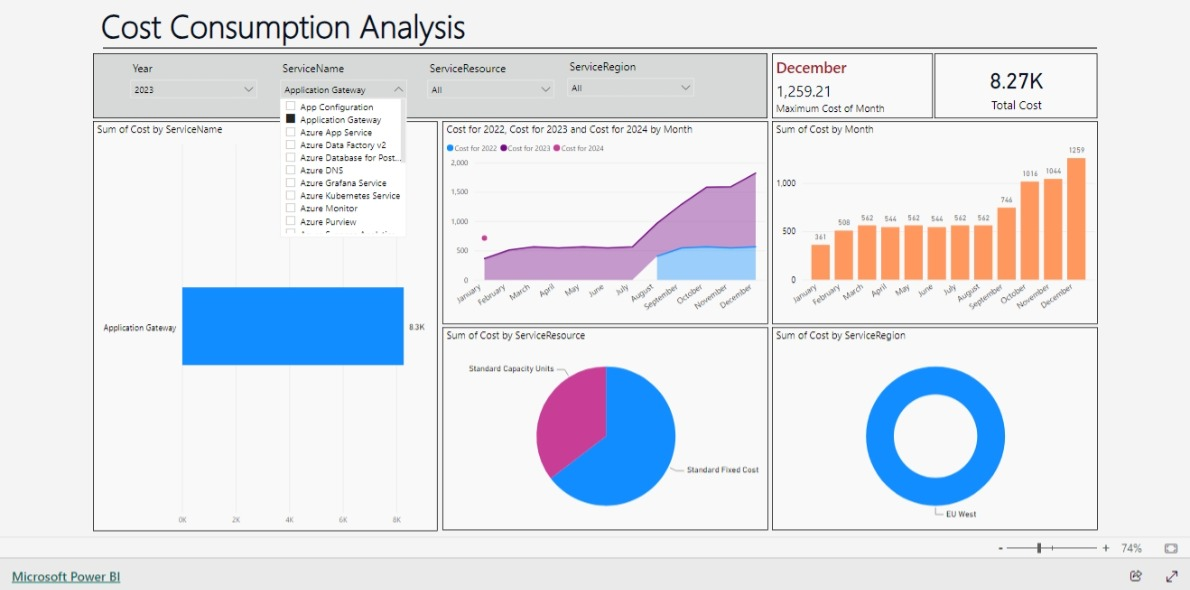

This screenshot's page, from the dashboard's own definition file:
{"tool":"powerbi","page":{"name":"Page 1","canvas":[1503,800],"ordinal":0},"visuals":[{"type":"shape","box":[3.2,79,1006,97],"z":0},{"type":"columnChart","title":"Total Cost by Month","fields":{"Category":["AzureUsage_Workxflow_10-01-2024.Date.Variation.Date Hierarchy.Month"],"Y":["Sum(AzureUsage_Workxflow_10-01-2024.Cost)"]},"box":[1015,180,486,303.4],"z":1000},{"type":"donutChart","title":"Total Cost by ServiceRegion","fields":{"Category":["AzureUsage_Workxflow_10-01-2024.ServiceRegion"],"Y":["Sum(AzureUsage_Workxflow_10-01-2024.Cost)"]},"box":[1015,488,486,303],"z":2000},{"type":"pieChart","title":"Total Cost by ServiceResource","fields":{"Category":["AzureUsage_Workxflow_10-01-2024.ServiceResource"],"Y":["Sum(AzureUsage_Workxflow_10-01-2024.Cost)"]},"box":[523.3,488,486,303],"z":3000},{"type":"clusteredBarChart","title":"total cost by ServiceName","fields":{"Category":["AzureUsage_Workxflow_10-01-2024.ServiceName"],"Y":["Sum(AzureUsage_Workxflow_10-01-2024.Cost)"]},"box":[3,180,514,611],"z":4000},{"type":"card","fields":{"Values":["Sum(AzureUsage_Workxflow_10-01-2024.Cost)"]},"box":[1258.3,79,242.7,97],"z":5000},{"type":"slicer","fields":{"Values":["AzureUsage_Workxflow_10-01-2024.ServiceName"]},"box":[417,85.7,193.9,87.3],"z":6000},{"type":"slicer","fields":{"Values":["AzureUsage_Workxflow_10-01-2024.ServiceResource"]},"box":[610.9,85.7,192.3,87.3],"z":7000},{"type":"slicer","fields":{"Values":["AzureUsage_Workxflow_10-01-2024.ServiceRegion"]},"box":[803.2,85.7,193.9,87.3],"z":8000},{"type":"slicer","fields":{"Values":["AzureUsage_Workxflow_10-01-2024.Date.Variation.Date Hierarchy.Year"]},"box":[17.6,86.2,193,86.2],"z":9000},{"type":"multiRowCard","fields":{"Values":["AzureUsage_Workxflow_10-01-2024.Date.Variation.Date Hierarchy.Month","Sum(AzureUsage_Workxflow_10-01-2024.Cost)"]},"box":[1015.6,79.8,239.5,97.4],"z":10000},{"type":"stackedAreaChart","title":"Cost Comparison by Year","fields":{"Category":["AzureUsage_Workxflow_10-01-2024.Date.Variation.Date Hierarchy.Month"],"Y":["AzureUsage_Workxflow_10-01-2024.Cost for 2022","AzureUsage_Workxflow_10-01-2024.Cost for 2023","AzureUsage_Workxflow_10-01-2024.Cost for 2024"]},"box":[523.3,180,486,303.3],"z":11000},{"type":"shape","box":[17.6,19,1483.4,105.4],"z":12000},{"type":"textbox","box":[9.6,0,811.2,83],"z":13000},{"type":"slicer","fields":{"Values":["AzureUsage_Workxflow_10-01-2024.Date.Variation.Date Hierarchy.Month"]},"box":[221.4,85.7,193.9,87.3],"z":13001}]}

Visuals, with their boxes on the page's 1503x800 design canvas (x1, y1, x2, y2). These are canvas units, not pixel positions in the 1190x590 screenshot, which may show the page scaled, cropped or inside an application window:
shape: <box>3,79,1009,176</box>
"Total Cost by Month" columnChart: <box>1015,180,1501,483</box>
"Total Cost by ServiceRegion" donutChart: <box>1015,488,1501,791</box>
"Total Cost by ServiceResource" pieChart: <box>523,488,1009,791</box>
"total cost by ServiceName" clusteredBarChart: <box>3,180,517,791</box>
card - Sum(AzureUsage_Workxflow_10-01-2024.Cost): <box>1258,79,1501,176</box>
slicer - AzureUsage_Workxflow_10-01-2024.ServiceName: <box>417,86,611,173</box>
slicer - AzureUsage_Workxflow_10-01-2024.ServiceResource: <box>611,86,803,173</box>
slicer - AzureUsage_Workxflow_10-01-2024.ServiceRegion: <box>803,86,997,173</box>
slicer - AzureUsage_Workxflow_10-01-2024.Date.Variation.Date Hierarchy.Year: <box>18,86,211,172</box>
multiRowCard - AzureUsage_Workxflow_10-01-2024.Date.Variation.Date Hierarchy.Month x Sum(AzureUsage_Workxflow_10-01-2024.Cost): <box>1016,80,1255,177</box>
"Cost Comparison by Year" stackedAreaChart: <box>523,180,1009,483</box>
shape: <box>18,19,1501,124</box>
textbox: <box>10,0,821,83</box>
slicer - AzureUsage_Workxflow_10-01-2024.Date.Variation.Date Hierarchy.Month: <box>221,86,415,173</box>
